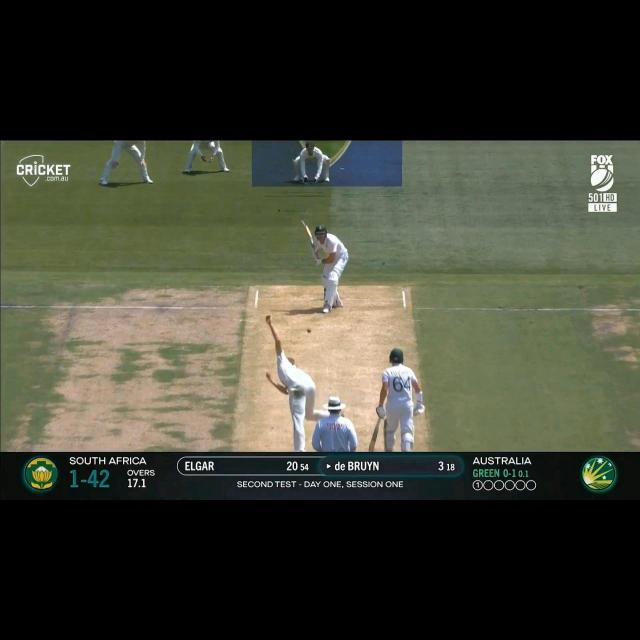bat: (302, 221, 314, 244), (370, 425, 378, 453)
toe: (301, 220, 308, 228), (368, 446, 374, 452)
